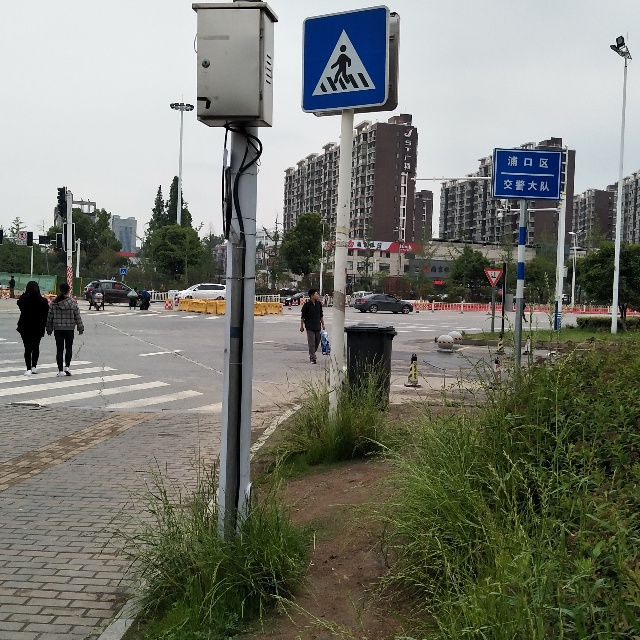crosswalk: (301, 5, 401, 121)
